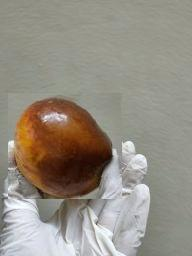Apple Rotten: (9, 93, 123, 199)
